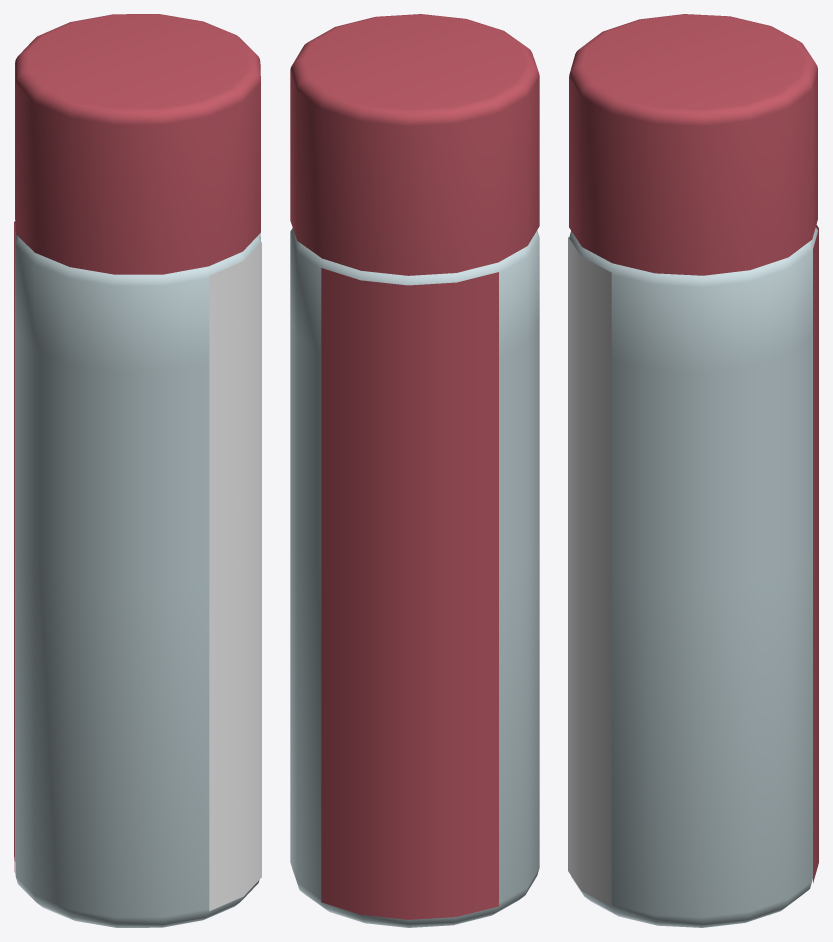
Rendered from waterBottle.fbx.
3 views of the same model, side by side, from view 1: azimuth 30°, elevation 25°; view 2: azimuth 150°, elevation 25°; view 3: azimuth 270°, elevation 25° (orthographic).
Parts seen in each view (by area): view 1: bouteille, bouchon, etiquette_transparente, etiquette_couleur; view 2: etiquette_couleur, bouchon, bouteille; view 3: bouteille, bouchon, etiquette_transparente, etiquette_couleur.
Boxes of the visible parts, x1,y1,x2,y2 form: bouteille: (15, 224, 260, 927); bouchon: (15, 14, 260, 274); etiquette_transparente: (209, 242, 261, 911); etiquette_couleur: (14, 221, 15, 871); etiquette_couleur: (321, 268, 498, 919); bouchon: (290, 14, 539, 275); bouteille: (290, 228, 539, 927); bouteille: (569, 227, 817, 927); bouchon: (569, 14, 817, 275); etiquette_transparente: (568, 237, 611, 906); etiquette_couleur: (813, 225, 818, 882).
Bounding box in the file's own units: 99.7 × 362 × 100.
